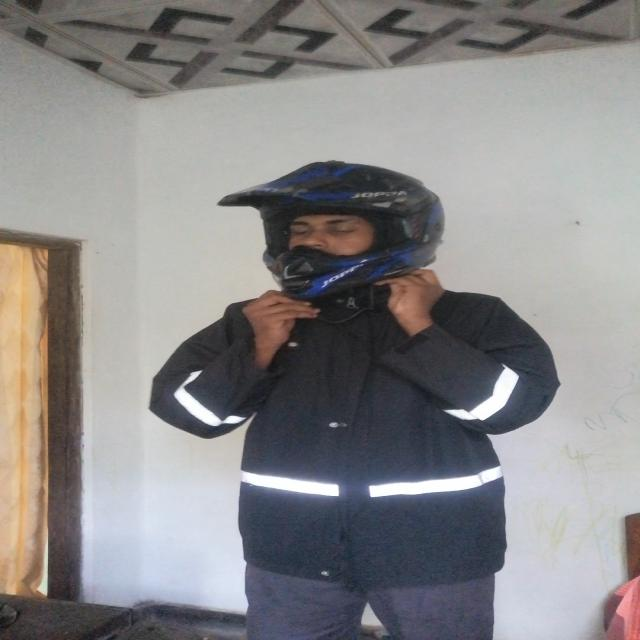Helmet_Wearer: (203, 152, 467, 302)
Jacket_Wearer: (156, 273, 562, 580)
Person: (163, 158, 561, 640)
